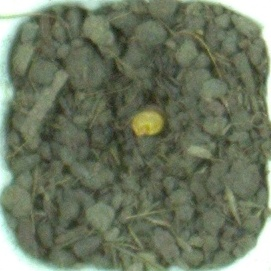chilli seed: (130, 109, 165, 136)
